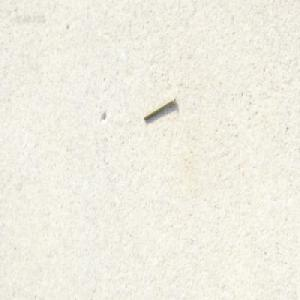Bolt: (143, 95, 176, 121)
